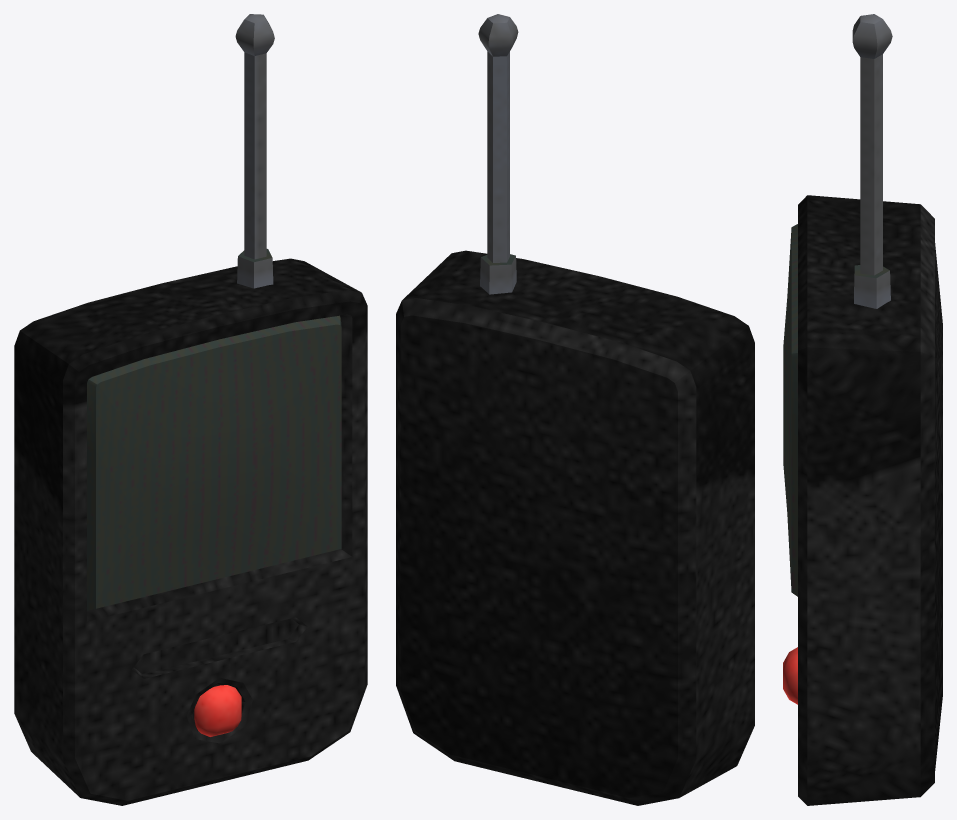
Rendered from Gadget.fbx.
The picture shows the model from 3 angles, left to right: view 1: azimuth 30°, elevation 25°; view 2: azimuth 150°, elevation 25°; view 3: azimuth 270°, elevation 25°; orthographic projection. The views are drawn at different scales.
Parts seen in each view (by area): view 1: Gadget; view 2: Gadget; view 3: Gadget.
Boxes of the visible parts, bbox=[...] form: Gadget: bbox=[14, 14, 367, 805]; Gadget: bbox=[396, 14, 754, 805]; Gadget: bbox=[783, 14, 942, 805].
Bounding box in the file's own units: 0.1217 × 0.2787 × 0.0519.
